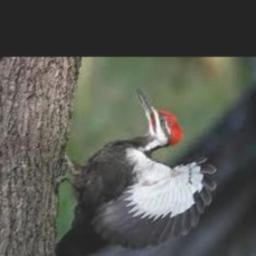Woodpecker: (58, 87, 217, 251)
